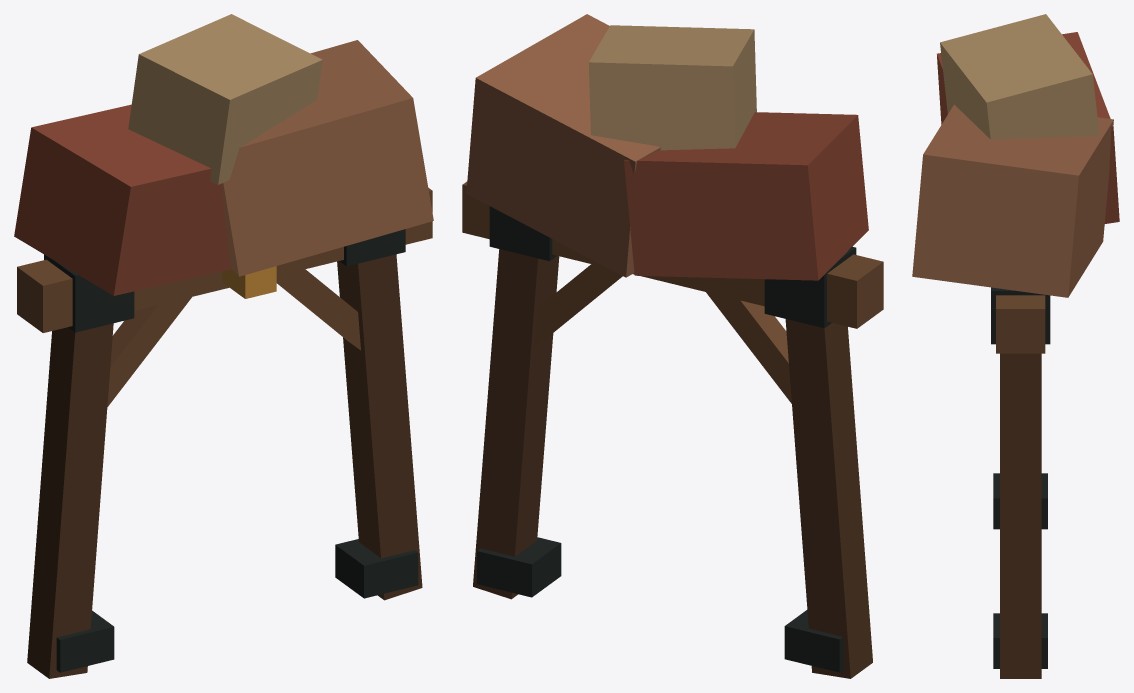
File: timber_rock_strut.glb
3 renders of one model, left to right at view 1: azimuth 30°, elevation 25°; view 2: azimuth 150°, elevation 25°; view 3: azimuth 270°, elevation 25°, orthographic. The views are drawn at different scales.
Visible parts, largest first — view 1: TimberRockStrut; view 2: TimberRockStrut; view 3: TimberRockStrut.
Part boxes in pixels (box(x1,y1,x2,y2)): TimberRockStrut: box(14, 14, 433, 678); TimberRockStrut: box(462, 14, 883, 678); TimberRockStrut: box(912, 14, 1119, 678).
Bounding box in the file's own units: 5.6 × 7.99 × 2.74.
